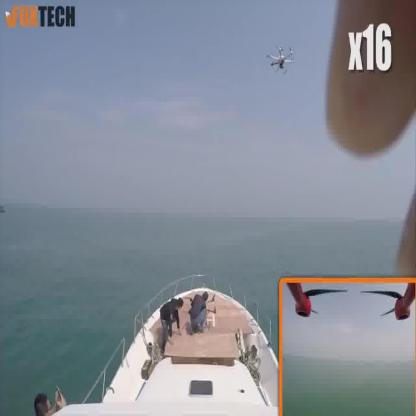drone: (267, 45, 296, 76)
